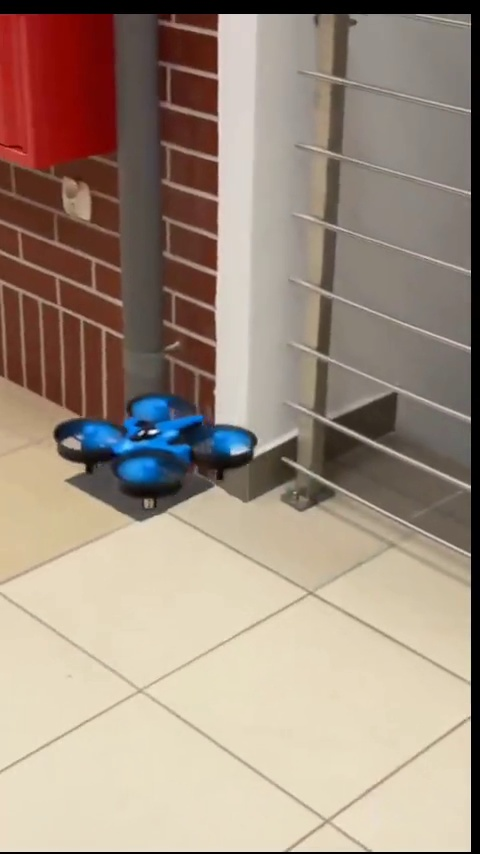drone: (51, 397, 256, 500)
